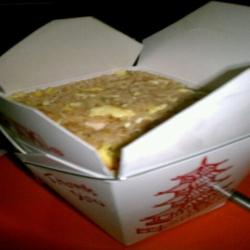rice: (7, 67, 204, 166)
